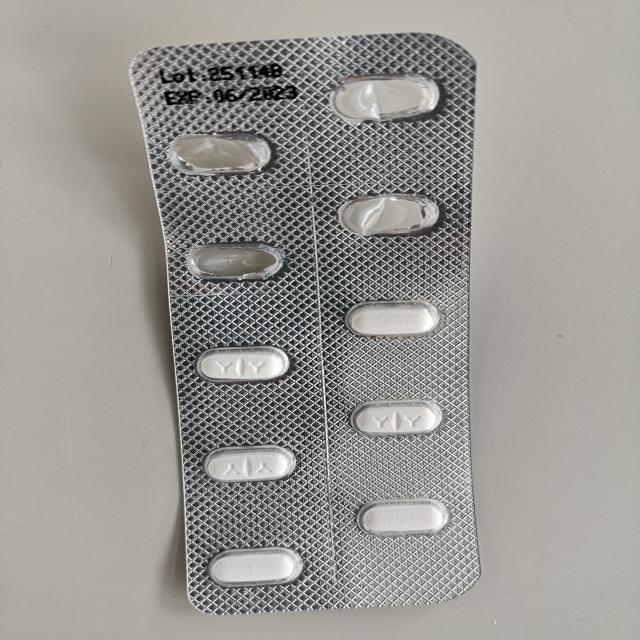Empty: (326, 72, 447, 128), (160, 128, 280, 180), (331, 191, 447, 241), (176, 238, 290, 287)
Pill: (200, 544, 311, 590), (339, 296, 445, 343), (196, 443, 303, 489), (189, 340, 294, 386), (348, 494, 453, 540), (348, 397, 452, 441)
